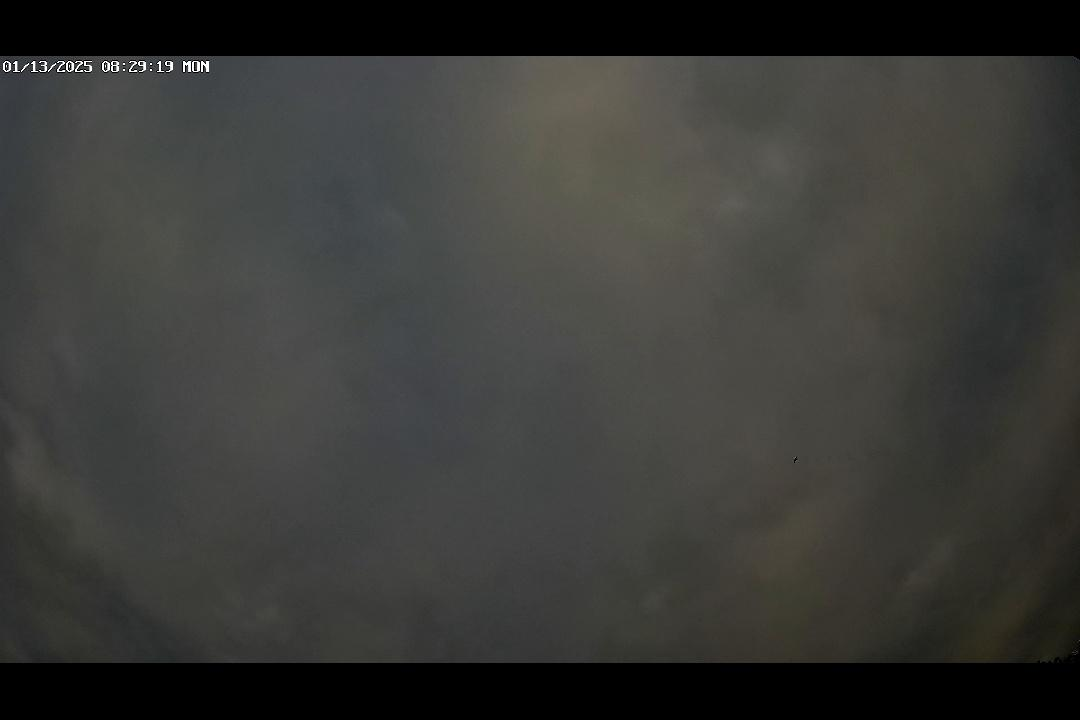WildLife: (787, 456, 812, 468)
